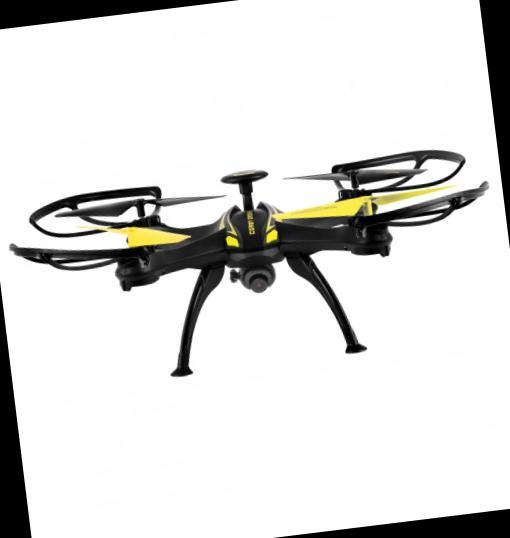drone: (8, 128, 508, 342)
